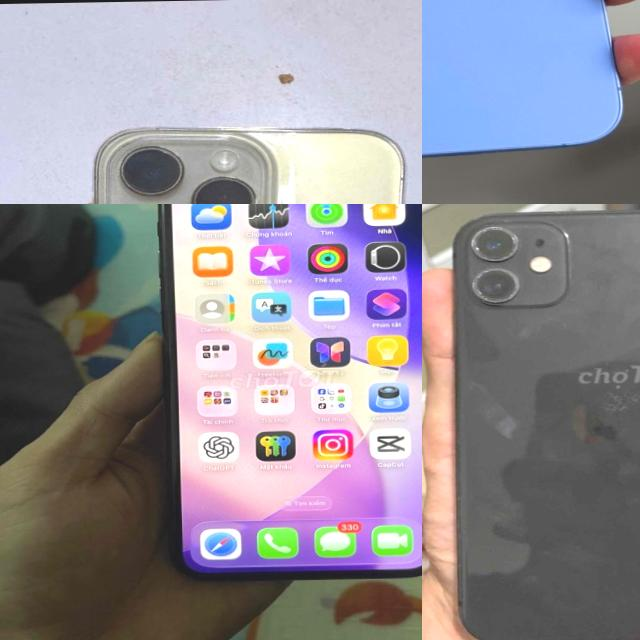gen_11: (158, 204, 422, 579), (442, 204, 640, 640)
gen_14: (77, 107, 422, 204)
gen_16: (422, 0, 620, 156)
